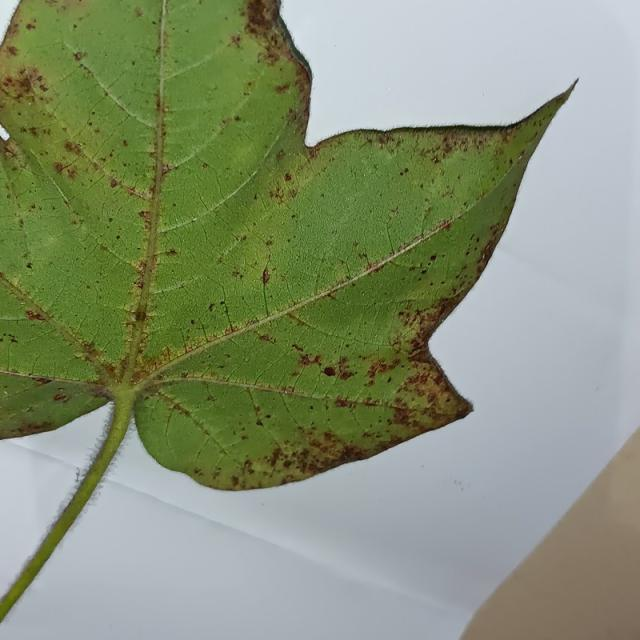Bacterial_Blight: (401, 236, 457, 290), (467, 212, 512, 279), (411, 297, 464, 350), (286, 429, 346, 470), (258, 437, 314, 474), (118, 307, 154, 362), (102, 171, 157, 200), (89, 350, 132, 383), (244, 0, 279, 37), (78, 341, 112, 373), (148, 344, 184, 370), (268, 175, 298, 203), (22, 67, 49, 98), (362, 250, 389, 276), (54, 157, 82, 182), (219, 297, 236, 338), (2, 134, 23, 165), (254, 267, 278, 291), (167, 398, 192, 419), (283, 312, 308, 330), (452, 399, 472, 421), (391, 406, 412, 424), (64, 141, 84, 159), (132, 268, 147, 291), (297, 353, 321, 367), (18, 74, 33, 94), (25, 309, 46, 321), (269, 448, 282, 467), (138, 209, 152, 224), (280, 170, 297, 182), (274, 82, 291, 94), (133, 309, 148, 322), (307, 145, 320, 159), (258, 333, 274, 344), (334, 398, 351, 408), (229, 34, 242, 47), (10, 275, 22, 288), (339, 370, 353, 381), (322, 366, 336, 377), (53, 393, 69, 402), (5, 45, 18, 56), (34, 376, 51, 384), (54, 162, 65, 173), (426, 392, 437, 403), (325, 290, 337, 300), (73, 51, 84, 61), (441, 220, 451, 231), (161, 163, 171, 174), (165, 248, 177, 256), (399, 167, 409, 176), (134, 8, 143, 18), (390, 205, 399, 215), (127, 312, 136, 322), (25, 22, 36, 30), (74, 469, 80, 483), (110, 178, 118, 188), (231, 270, 241, 278), (358, 252, 368, 260), (72, 351, 82, 359), (207, 303, 215, 312), (193, 467, 202, 475), (429, 254, 437, 262), (265, 239, 273, 247), (25, 262, 33, 269), (242, 356, 249, 364), (240, 235, 247, 242), (353, 241, 360, 248), (256, 419, 263, 426), (122, 139, 128, 147), (10, 337, 18, 343), (420, 269, 427, 275), (163, 105, 169, 112), (445, 397, 452, 403), (292, 127, 297, 135), (387, 376, 392, 383), (475, 236, 480, 243), (518, 154, 523, 161), (108, 217, 113, 223), (190, 319, 195, 325), (115, 235, 121, 240), (265, 414, 271, 419), (220, 301, 226, 306), (309, 405, 314, 410), (155, 391, 160, 396), (192, 217, 197, 222), (482, 254, 486, 260), (460, 486, 464, 491), (28, 102, 32, 106), (4, 391, 8, 395)
Cotton: (0, 0, 576, 619)
